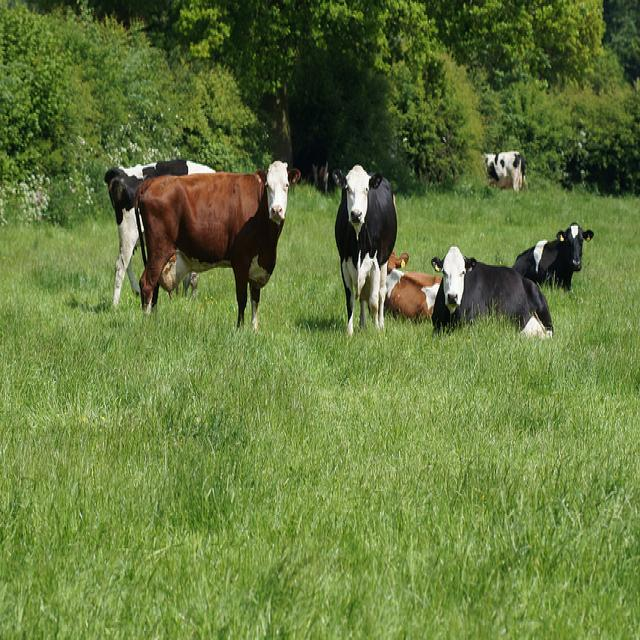cow: (132, 157, 300, 328), (104, 158, 214, 309), (328, 161, 397, 337), (430, 241, 554, 337), (510, 220, 593, 289), (384, 247, 440, 322), (482, 151, 524, 190)
